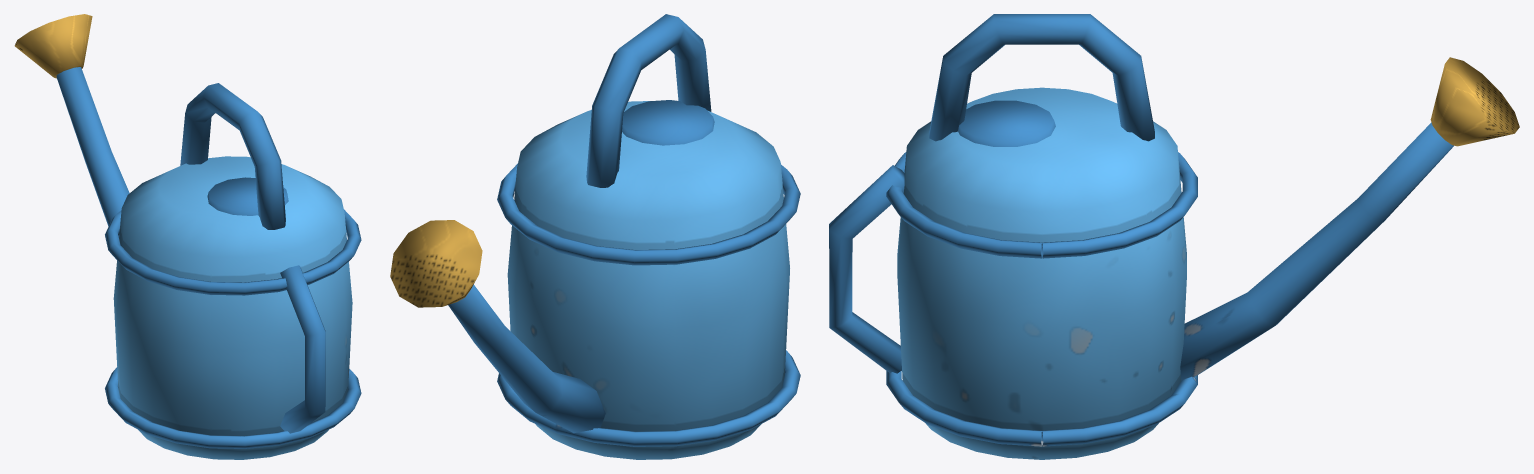
File: tool_watering_can.glb
3 views of the same model, side by side, from view 1: azimuth 30°, elevation 25°; view 2: azimuth 150°, elevation 25°; view 3: azimuth 270°, elevation 25° (orthographic). The views are drawn at different scales.
Visible parts, largest first — view 1: Tool; view 2: Tool; view 3: Tool.
Boxes of the visible parts, <box> form: Tool: <box>14,14,361,459</box>; Tool: <box>390,14,800,459</box>; Tool: <box>829,14,1519,459</box>.
Bounding box in the file's own units: 0.2579 × 0.3538 × 0.566.
1 material, 1 textured.
